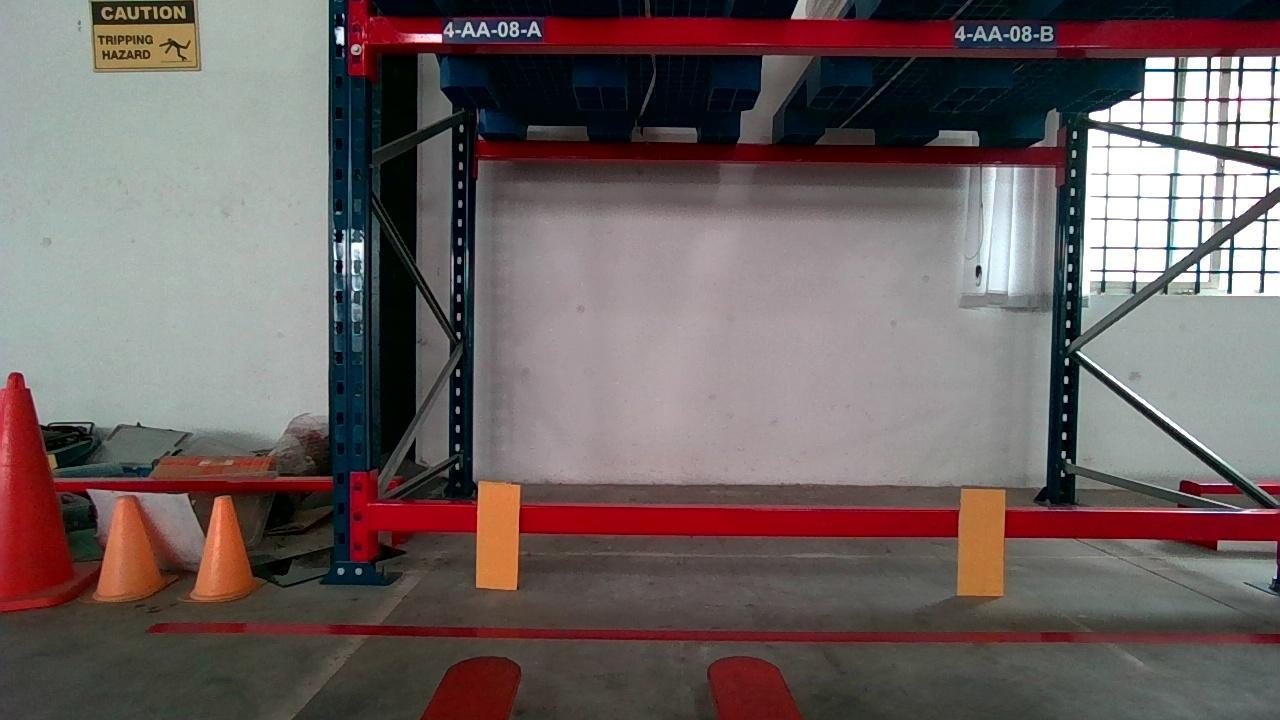h_rack: (365, 7, 1280, 51), (366, 502, 1280, 541)
orange_strip: (474, 483, 521, 590), (957, 485, 1004, 592)
red_line: (147, 621, 1280, 645)
